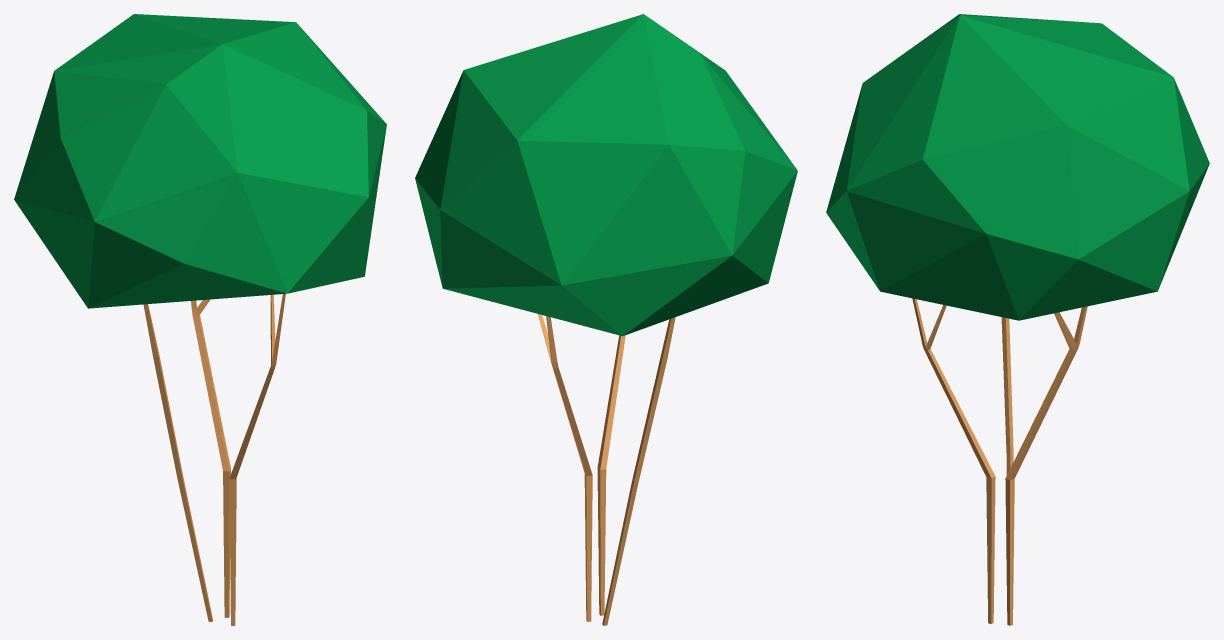
The model's file is Bush_5.fbx.
3 renders of one model, left to right at view 1: azimuth 30°, elevation 25°; view 2: azimuth 150°, elevation 25°; view 3: azimuth 270°, elevation 25°, orthographic.
Parts seen in each view (by area): view 1: Bush 5_LOD0; view 2: Bush 5_LOD0; view 3: Bush 5_LOD0.
Part boxes in pixels (x1=…): Bush 5_LOD0: x1=14, y1=14, x2=386, y2=625; Bush 5_LOD0: x1=415, y1=14, x2=797, y2=625; Bush 5_LOD0: x1=826, y1=14, x2=1209, y2=625.
Size of what is drawn, in the model's own units: 47.09 by 82.47 by 48.22.
